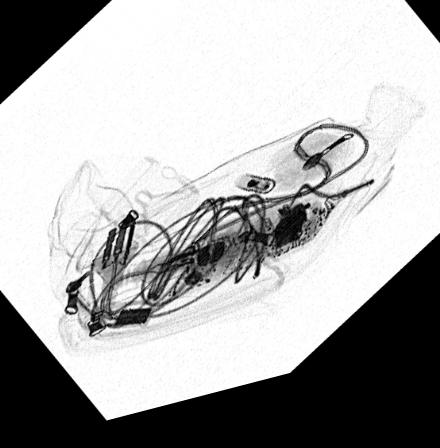Lighter: (231, 185, 275, 208)
